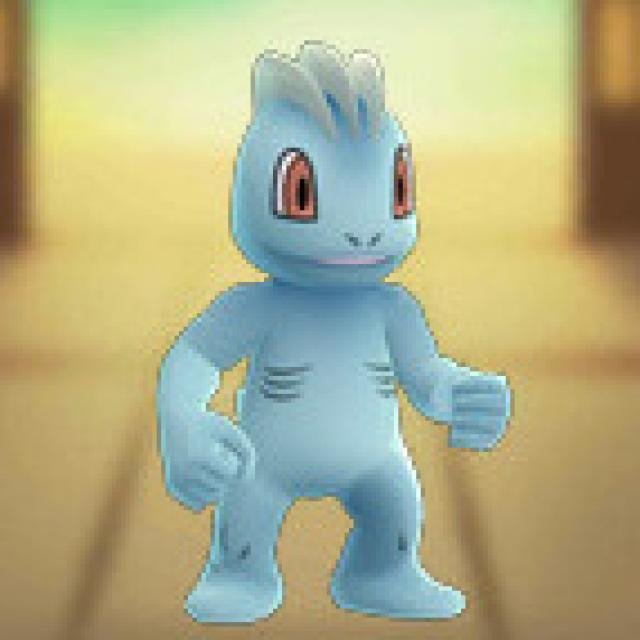Machop: (132, 45, 506, 630)
